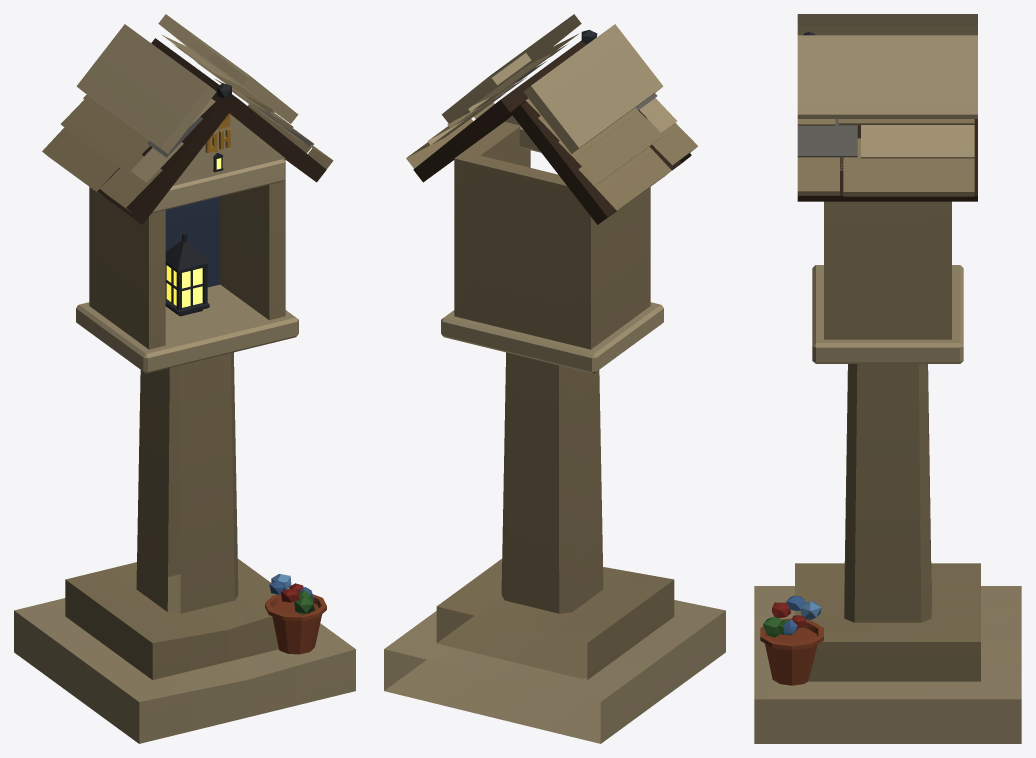
The model's file is shrine.glb.
3 views of the same model, side by side, from view 1: azimuth 30°, elevation 25°; view 2: azimuth 150°, elevation 25°; view 3: azimuth 270°, elevation 25° (orthographic). The views are drawn at different scales.
Visible parts, largest first — view 1: isl_shrine; view 2: isl_shrine; view 3: isl_shrine.
Boxes of the visible parts, <box> form: isl_shrine: <box>14,14,355,743</box>; isl_shrine: <box>384,14,725,743</box>; isl_shrine: <box>754,14,1021,743</box>.
Size of the model in its own units: 0.9208 by 2.52 by 0.9201.
